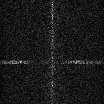wifi: (1, 59, 104, 64)
